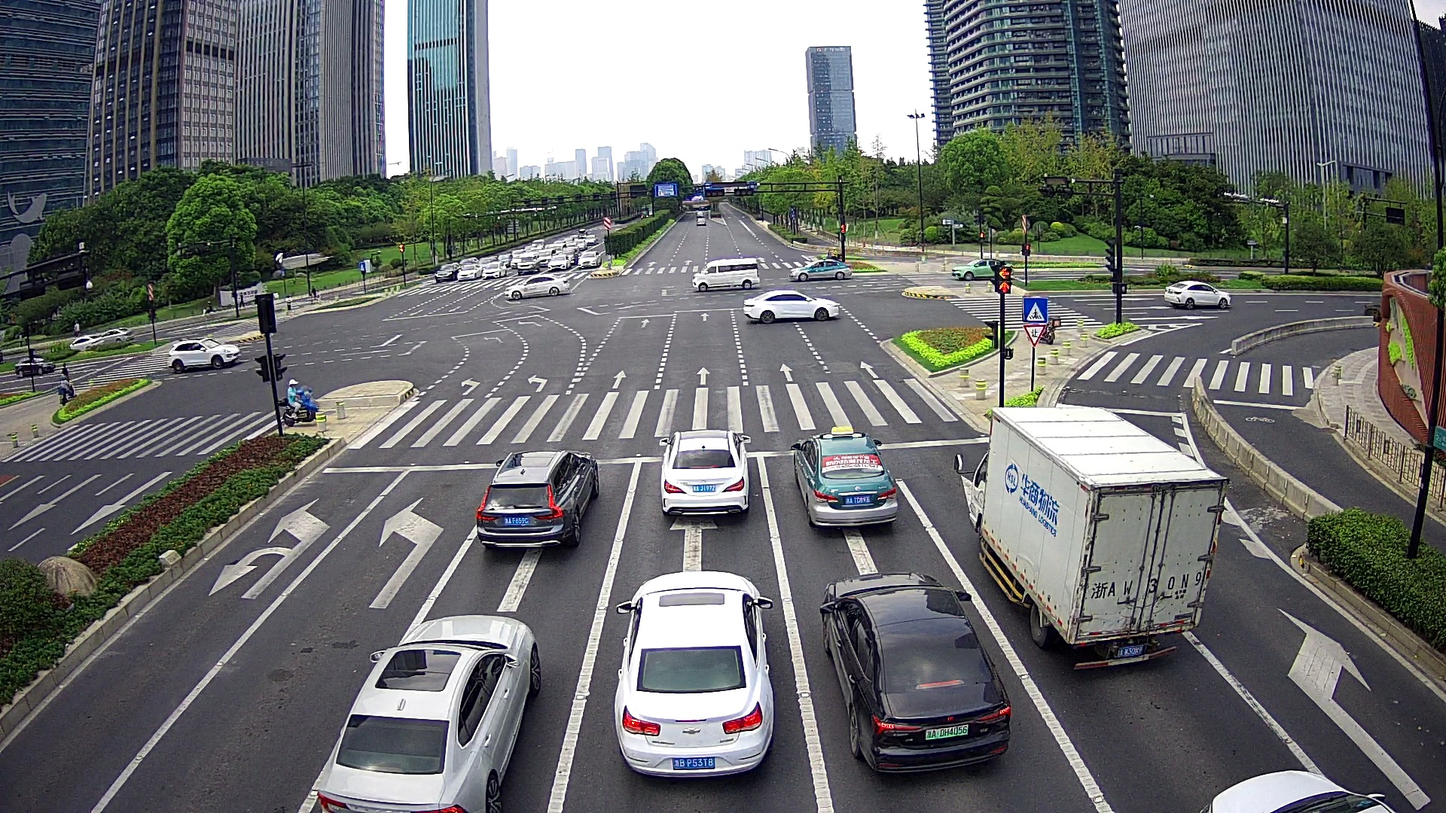person: (283, 372, 306, 421)
vehicle: (948, 400, 1235, 678), (313, 599, 541, 812), (817, 569, 1014, 778), (610, 566, 781, 785), (470, 435, 603, 556), (788, 420, 900, 533), (654, 422, 760, 527), (736, 286, 845, 326), (163, 334, 243, 375), (689, 253, 765, 294), (1160, 275, 1235, 312), (501, 269, 574, 301), (786, 252, 856, 282), (273, 387, 323, 427), (951, 252, 1007, 285)
